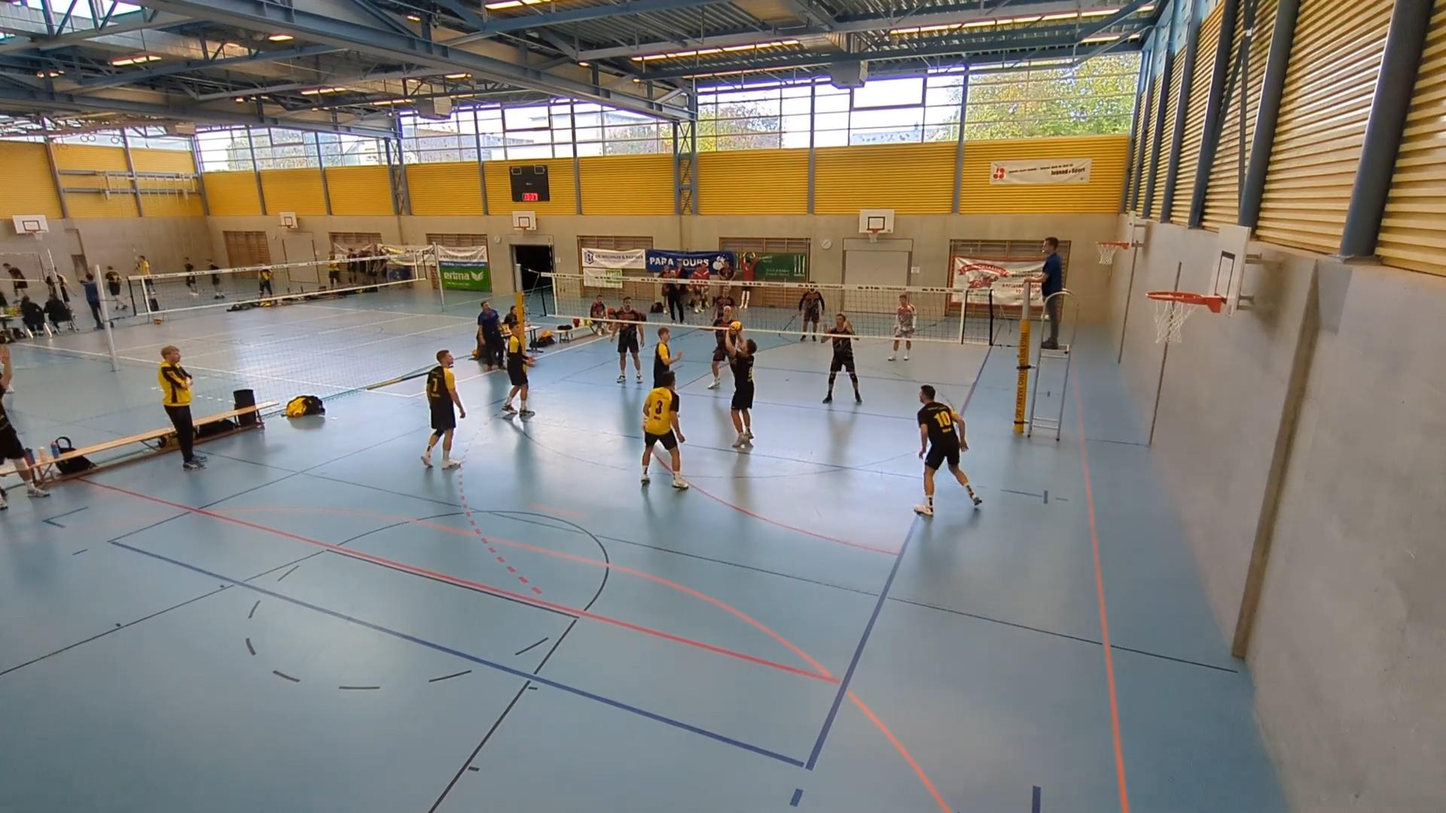alzata: (716, 326, 761, 450)
